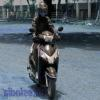motorcycles: (28, 29, 62, 99)
